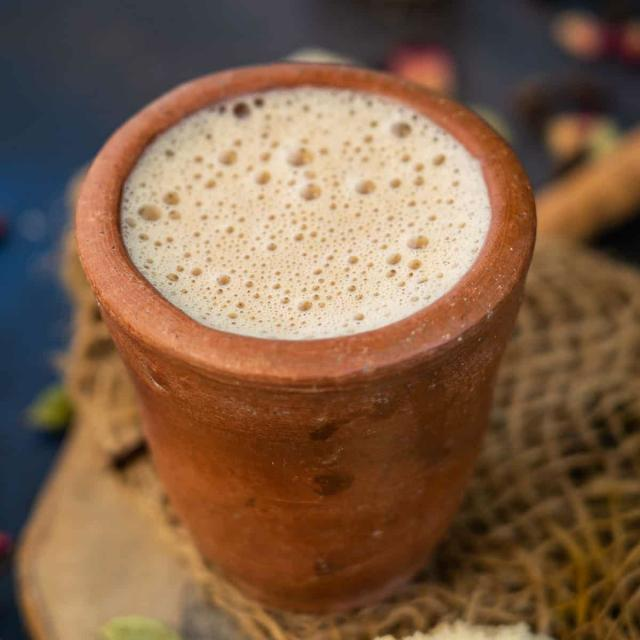Chai: (116, 84, 480, 330)
